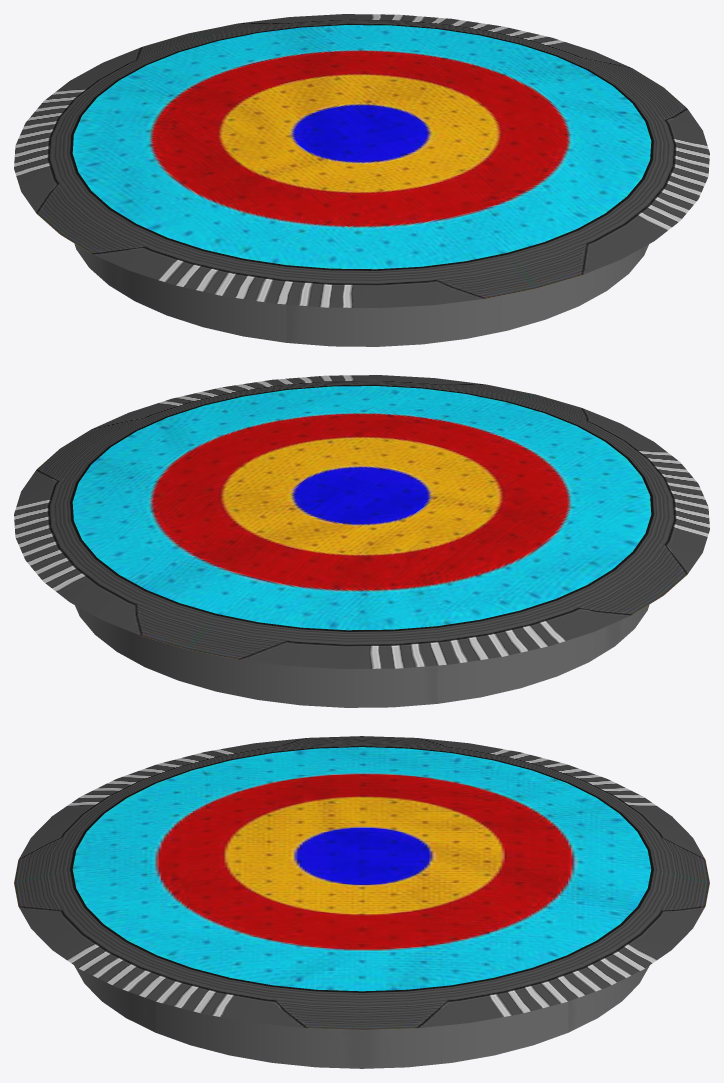
Rendered from jump_tempo.FBX.
3 views of the same model, one above another, from view 1: azimuth 30°, elevation 25°; view 2: azimuth 150°, elevation 25°; view 3: azimuth 270°, elevation 25° (orthographic).
Parts seen in each view (by area): view 1: jump_tempo; view 2: jump_tempo; view 3: jump_tempo.
Boxes of the visible parts, left/top/right/bottom form: jump_tempo: left=14, top=14, right=709, bottom=346; jump_tempo: left=14, top=375, right=709, bottom=707; jump_tempo: left=14, top=736, right=709, bottom=1068.
Size of the model in its own units: 199 by 28.14 by 199.
1 material, 1 textured.
